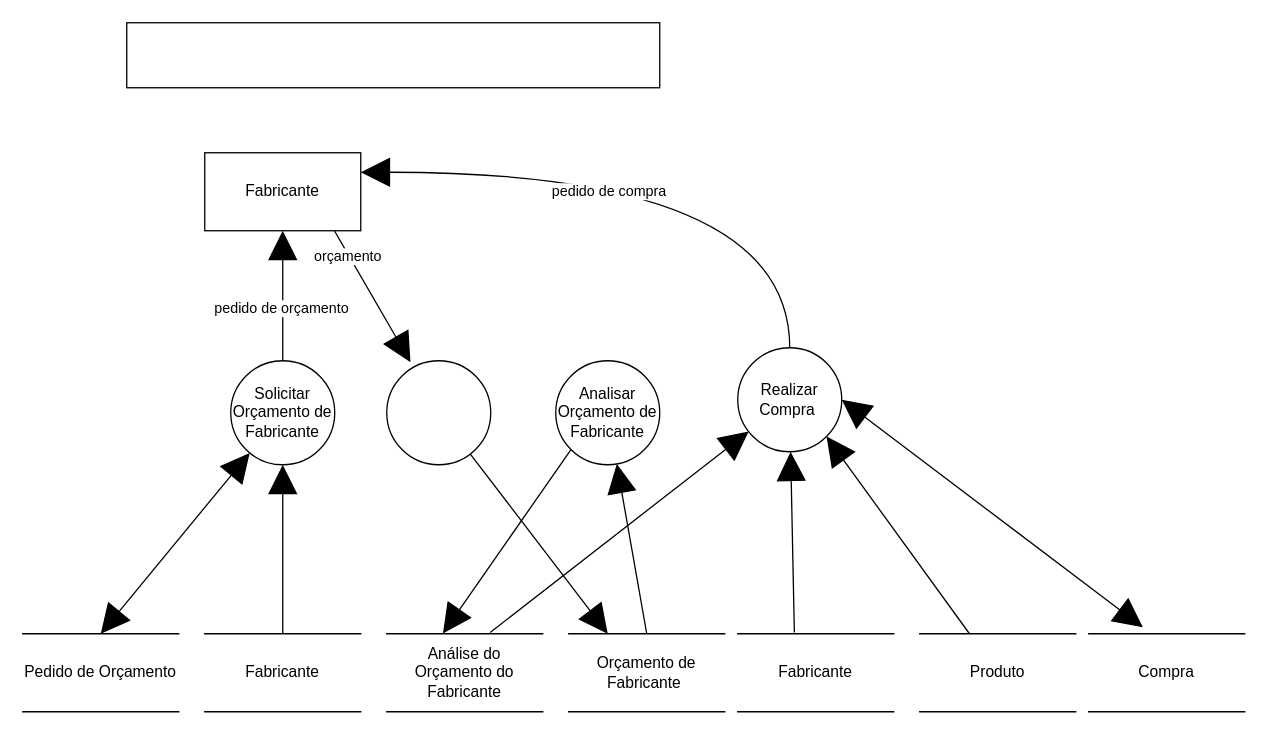
This 1268x735 diagram has some shape labels left out. Each missing label, with the centre of its shape:
DFD - Tratar compra de produtos: the point at 392,54
Receber Orçamento de Fabricante: the point at 438,412
